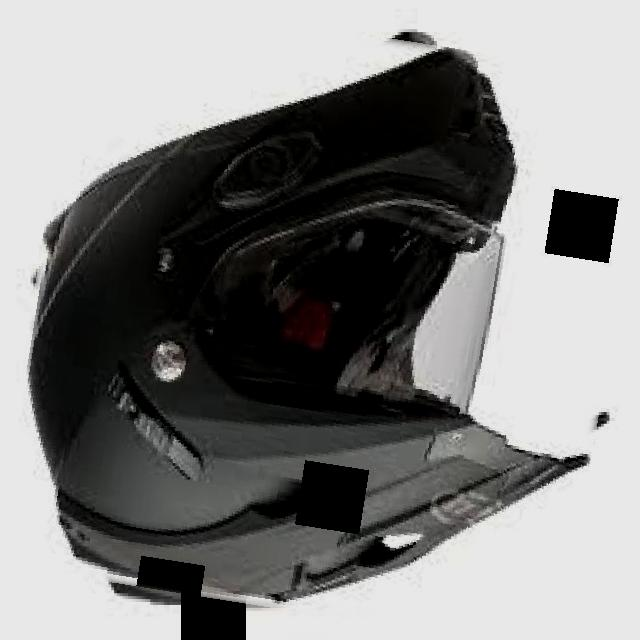helmet: (13, 11, 632, 634)
